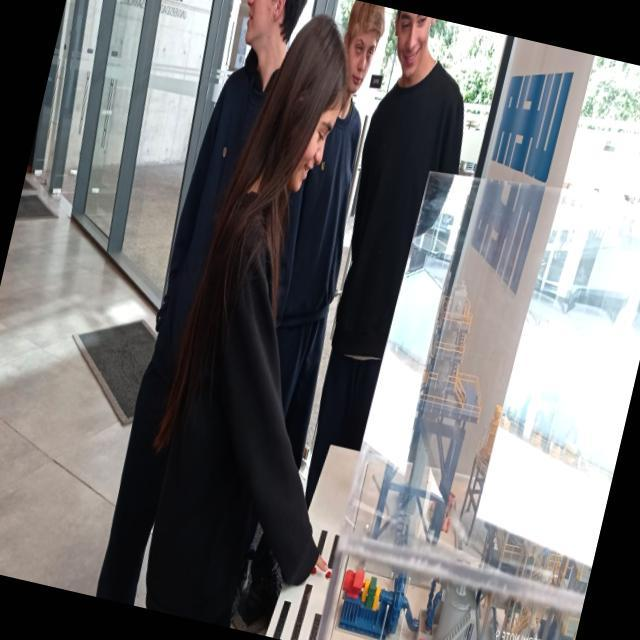person: (122, 0, 444, 640), (65, 0, 311, 613), (292, 12, 484, 520), (251, 0, 399, 430)
